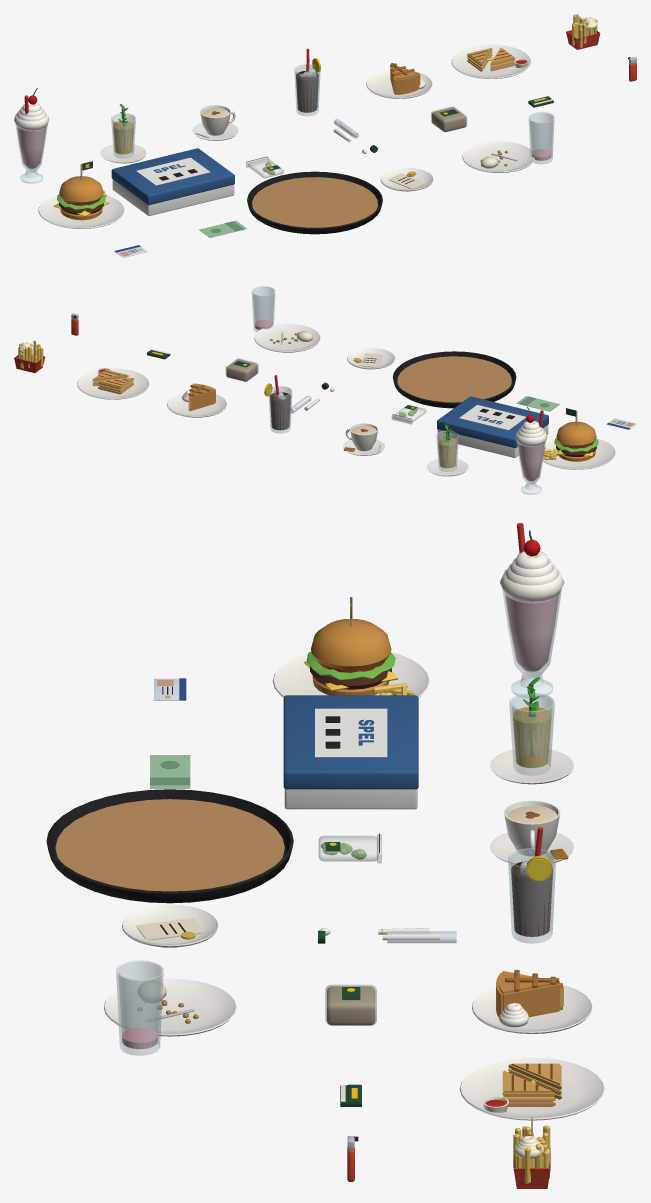
File: props.glb
3 views of the same model, one above another, from view 1: azimuth 30°, elevation 25°; view 2: azimuth 150°, elevation 25°; view 3: azimuth 270°, elevation 25° (orthographic). The views are drawn at different scales.
Parts seen in each view (by area): view 1: prop_tray, prop_gamebox, prop_burger, prop_dirty, prop_tosti, prop_shake, prop_pie, prop_tea, prop_cola, prop_coffee, prop_bill, prop_fries (+4 smaller); view 2: prop_tray, prop_gamebox, prop_burger, prop_dirty, prop_tosti, prop_shake, prop_pie, prop_tea, prop_cola, prop_coffee, prop_bill, prop_fries (+3 smaller); view 3: prop_tray, prop_gamebox, prop_burger, prop_dirty, prop_tosti, prop_shake, prop_pie, prop_tea, prop_cola, prop_coffee, prop_bill, prop_fries (+4 smaller).
Boxes of the visible parts, box(x1,y1,x2,y2) form: prop_tray: box(247, 171, 382, 234); prop_gamebox: box(111, 148, 234, 216); prop_burger: box(38, 161, 124, 228); prop_dirty: box(462, 112, 554, 172); prop_tosti: box(451, 44, 530, 78); prop_shake: box(14, 88, 49, 183); prop_pie: box(366, 63, 432, 98); prop_tea: box(100, 104, 146, 163); prop_cola: box(294, 48, 320, 116); prop_coffee: box(192, 105, 238, 140); prop_bill: box(380, 167, 433, 191); prop_fries: box(566, 14, 600, 49); prop_tray: box(392, 351, 516, 408); prop_gamebox: box(437, 396, 548, 457); prop_burger: box(542, 408, 615, 469); prop_dirty: box(251, 286, 320, 352); prop_tosti: box(77, 367, 149, 399); prop_shake: box(515, 407, 547, 494); prop_pie: box(167, 383, 226, 417); prop_tea: box(426, 424, 468, 476); prop_cola: box(264, 375, 292, 433); prop_coffee: box(343, 423, 384, 455); prop_bill: box(347, 348, 394, 369); prop_fries: box(14, 340, 45, 372); prop_tray: box(46, 789, 293, 903); prop_gamebox: box(283, 695, 418, 809); prop_burger: box(272, 597, 429, 697); prop_dirty: box(104, 960, 236, 1055); prop_tosti: box(460, 1057, 604, 1120); prop_shake: box(499, 523, 564, 698); prop_pie: box(472, 970, 592, 1033); prop_tea: box(490, 677, 574, 784); prop_cola: box(508, 827, 556, 943); prop_coffee: box(490, 800, 574, 863); prop_bill: box(122, 904, 218, 947); prop_fries: box(513, 1116, 550, 1188).
Size of the model in its own units: 2.09 by 0.3023 by 0.925.
